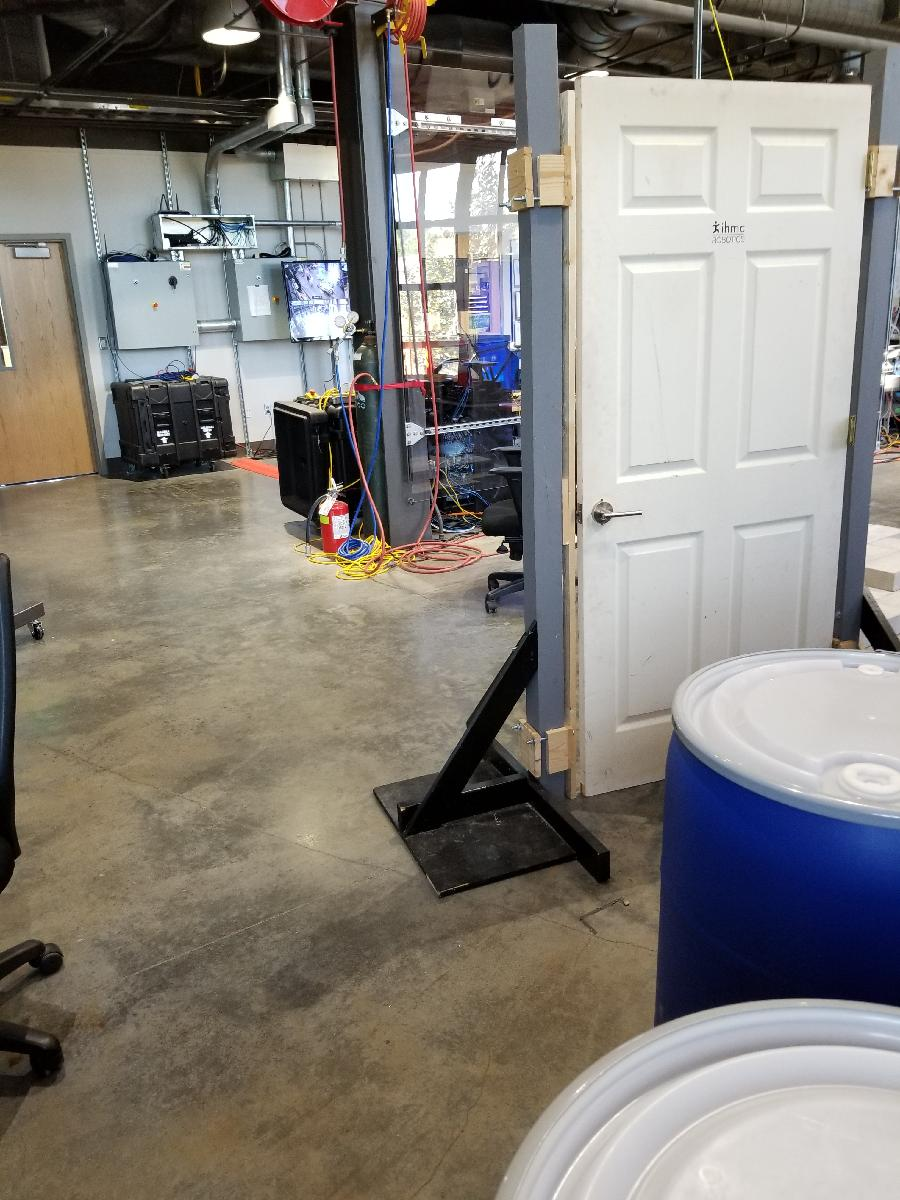door: (573, 73, 878, 817)
doorHandle: (584, 499, 646, 533)
